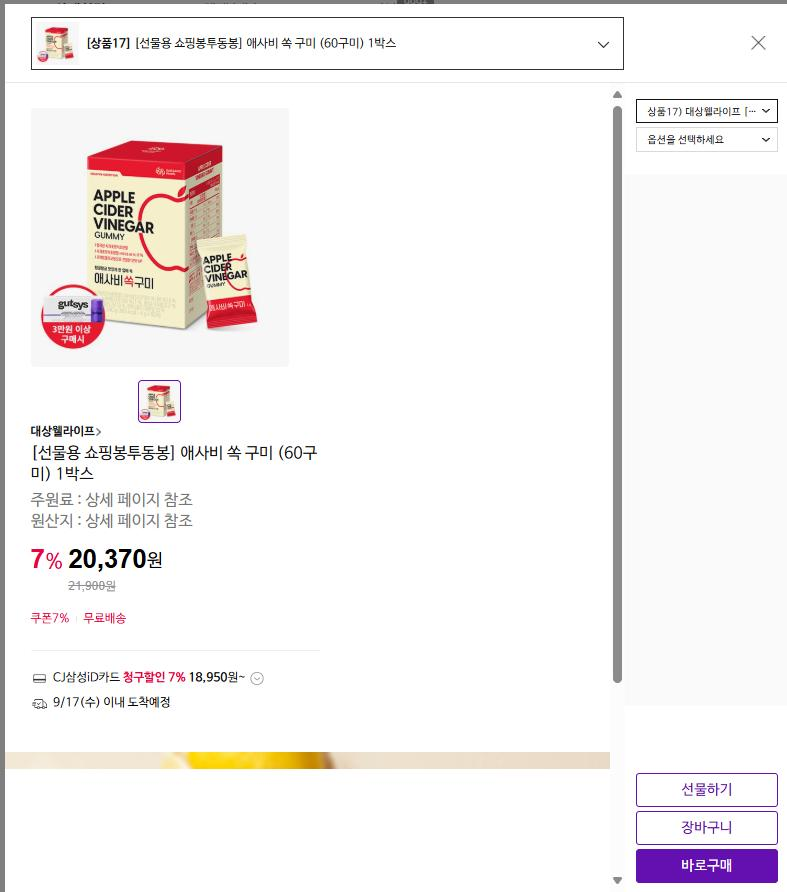button: (635, 769, 780, 808), (635, 849, 779, 884), (635, 812, 778, 845), (745, 26, 771, 60)
checkbox: (28, 18, 623, 68), (635, 97, 778, 123), (637, 127, 778, 153), (248, 666, 269, 688)
